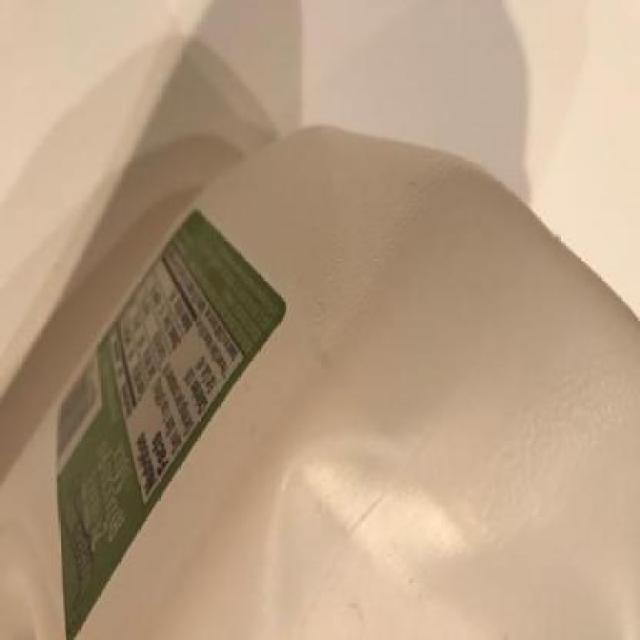PLASTIC: (1, 127, 638, 638)
